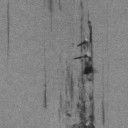slag inclusion: (58, 9, 96, 128), (6, 0, 10, 50), (43, 64, 46, 110), (102, 98, 106, 126), (48, 0, 54, 18), (58, 0, 62, 10), (80, 0, 83, 9)
